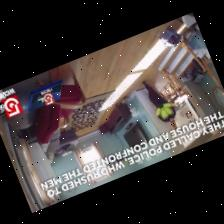person: (142, 81, 174, 125)
